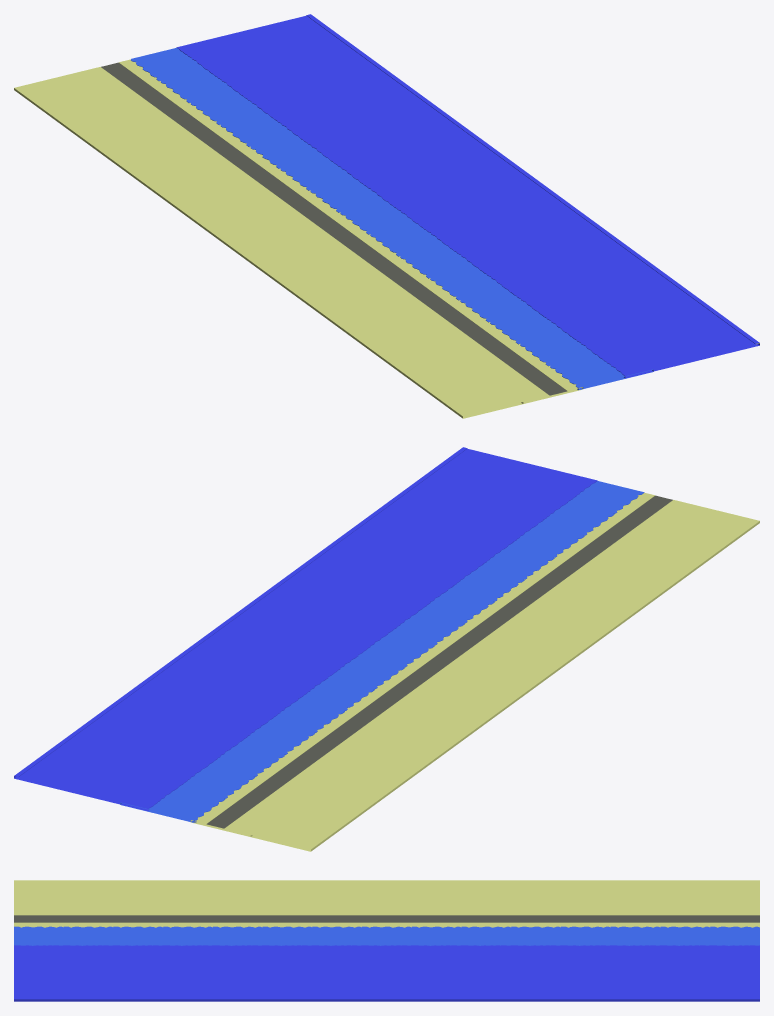
Rendered from playa_gigante.fbx.
The picture shows the model from 3 angles, top to bottom: view 1: azimuth 30°, elevation 25°; view 2: azimuth 150°, elevation 25°; view 3: azimuth 270°, elevation 25°; orthographic projection. The views are drawn at different scales.
Parts seen in each view (by area): view 1: playa; view 2: playa; view 3: playa.
Boxes of the visible parts, x1,y1,x2,y2 form: playa: (14,14,759,418); playa: (14,447,759,851); playa: (14,880,759,1001).
Bounding box in the file's own units: 28185 × 317 × 73870.
